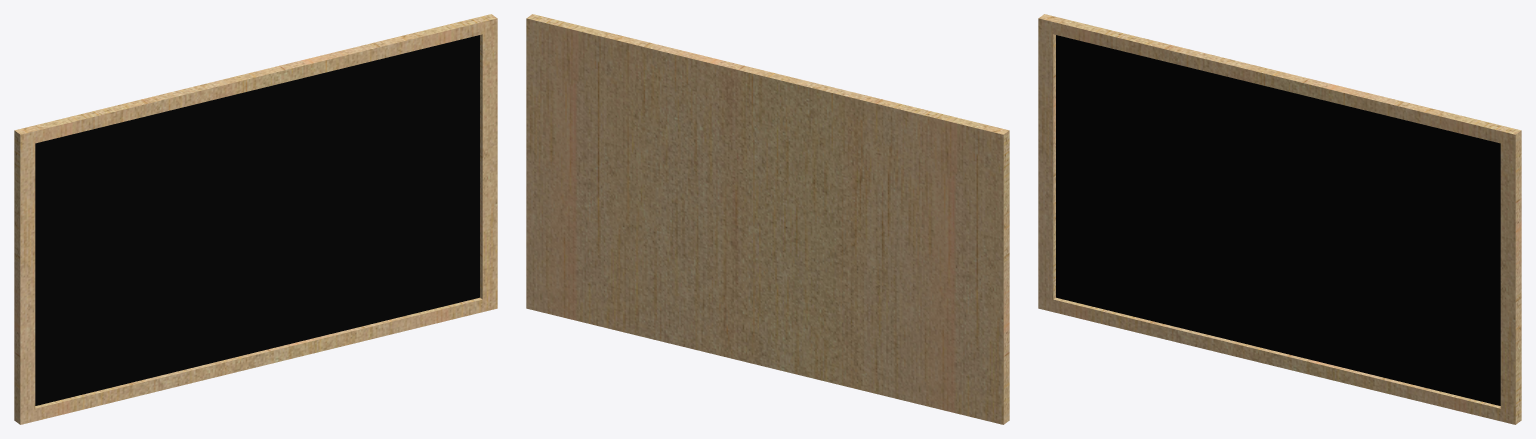
Rendered from blackboard.obj.
3 views of the same model, side by side, from view 1: azimuth 30°, elevation 25°; view 2: azimuth 150°, elevation 25°; view 3: azimuth 330°, elevation 25° (orthographic).
Parts seen in each view (by area): view 1: 솔리드2; view 2: 솔리드2; view 3: 솔리드2.
Boxes of the visible parts, x1=… form: 솔리드2: x1=14, y1=14, x2=497, y2=424; 솔리드2: x1=526, y1=14, x2=1009, y2=424; 솔리드2: x1=1038, y1=14, x2=1521, y2=424.
Bounding box in the file's own units: 32 × 18.6 × 0.7.
Materials: 2 (1 with a texture image).
